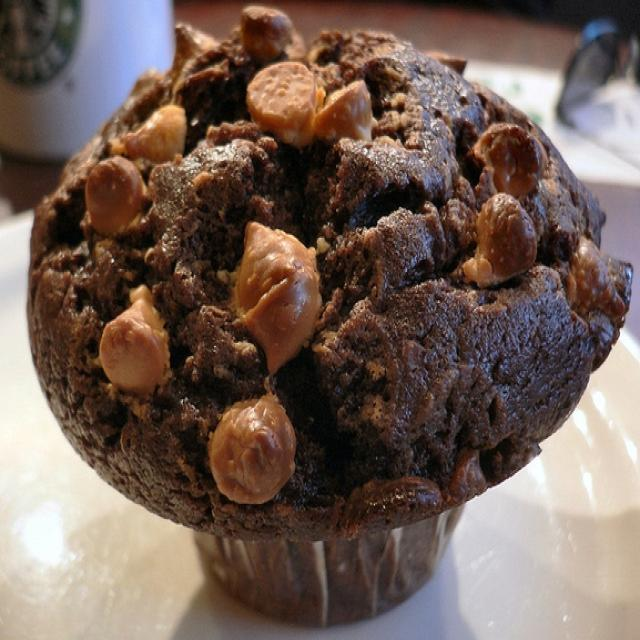炸货点心: (16, 15, 634, 597)
面包点心: (16, 15, 634, 597)
